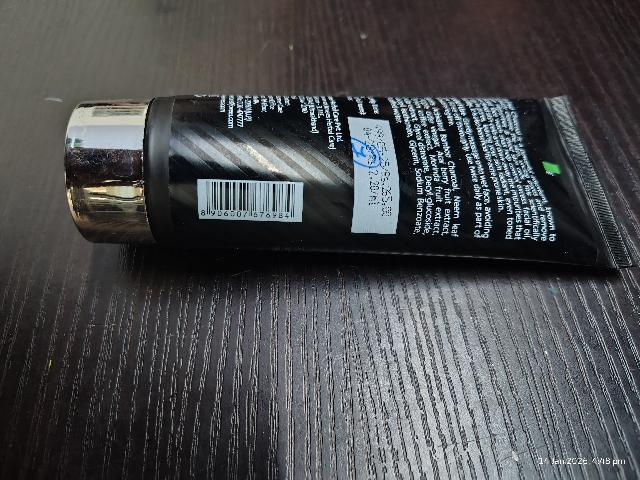jovees herbal: (61, 92, 603, 267)
